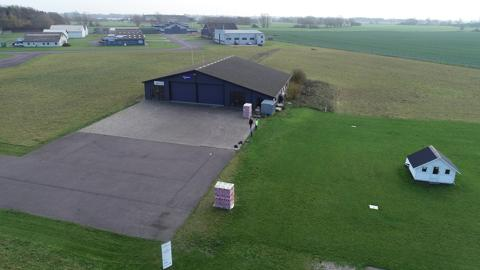RockwoolPallet: (242, 102, 253, 119)
